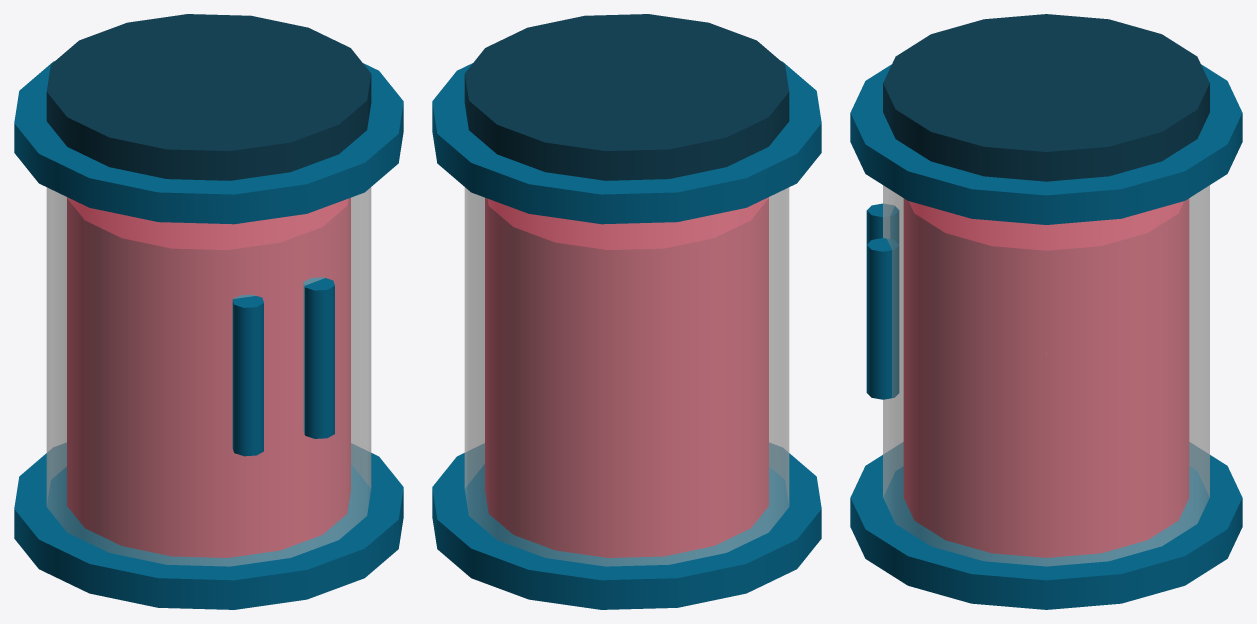
Rendered from G01_025_TankB.fbx.
3 views of the same model, side by side, from view 1: azimuth 30°, elevation 25°; view 2: azimuth 150°, elevation 25°; view 3: azimuth 270°, elevation 25° (orthographic).
Visible parts, largest first — view 1: 015_Tank_02_B, 015_Tank_02_B.001, 柱体.026, 柱体.029, 柱体.027, 柱体.025, 柱体.030; view 2: 015_Tank_02_B, 015_Tank_02_B.001, 柱体.026, 柱体.029, 柱体.027; view 3: 015_Tank_02_B, 015_Tank_02_B.001, 柱体.026, 柱体.029, 柱体.027, 柱体.025, 柱体.030.
Part boxes in pixels (x1=…): 015_Tank_02_B: x1=46, y1=187, x2=371, y2=566; 015_Tank_02_B.001: x1=67, y1=197, x2=350, y2=557; 柱体.026: x1=46, y1=14, x2=371, y2=180; 柱体.029: x1=14, y1=443, x2=403, y2=609; 柱体.027: x1=14, y1=61, x2=403, y2=224; 柱体.025: x1=303, y1=277, x2=334, y2=438; 柱体.030: x1=232, y1=294, x2=263, y2=456; 015_Tank_02_B: x1=464, y1=187, x2=789, y2=566; 015_Tank_02_B.001: x1=485, y1=197, x2=768, y2=557; 柱体.026: x1=464, y1=14, x2=789, y2=180; 柱体.029: x1=432, y1=443, x2=821, y2=609; 柱体.027: x1=432, y1=61, x2=821, y2=224; 015_Tank_02_B: x1=883, y1=185, x2=1209, y2=566; 015_Tank_02_B.001: x1=903, y1=198, x2=1189, y2=557; 柱体.026: x1=883, y1=14, x2=1209, y2=181; 柱体.029: x1=850, y1=442, x2=1242, y2=609; 柱体.027: x1=850, y1=64, x2=1242, y2=224; 柱体.025: x1=866, y1=238, x2=899, y2=399; 柱体.030: x1=866, y1=203, x2=899, y2=244.
Size of the model in its own units: 240 by 300 by 240.
